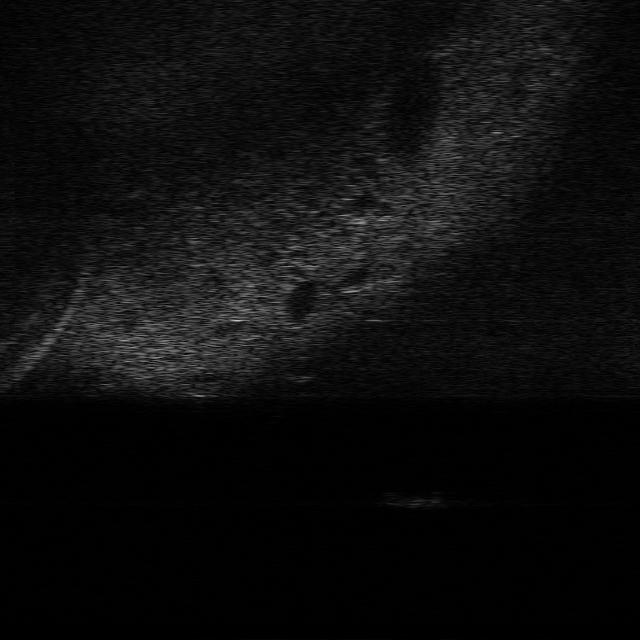ball: (276, 354, 320, 381)
cube: (377, 490, 448, 508)
